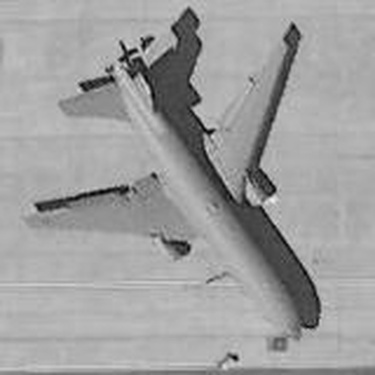airplane: (8, 7, 330, 347)
